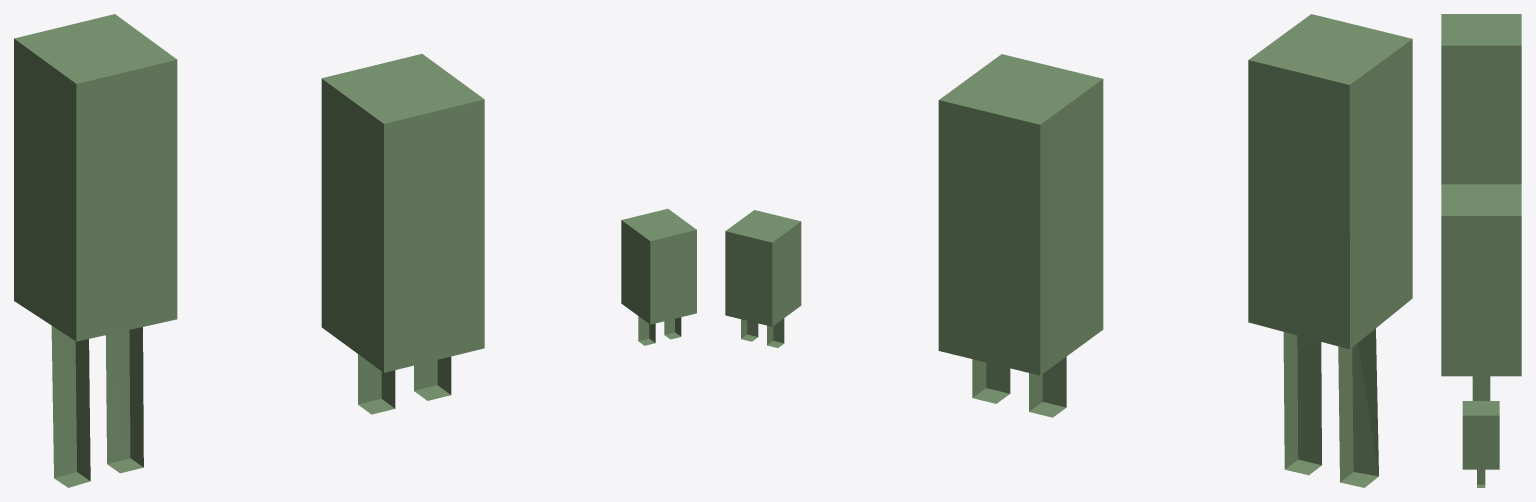
Rendered from biped-animal.glb.
3 views of the same model, side by side, from view 1: azimuth 30°, elevation 25°; view 2: azimuth 150°, elevation 25°; view 3: azimuth 270°, elevation 25° (orthographic). The views are drawn at different scales.
Visible parts, largest first — view 1: xier120.biped-animal.mesh.005, xier120.biped-animal.mesh.004, xier120.biped-animal.mesh.003, xier120.biped-animal.mesh.008, xier120.biped-animal.mesh.000, xier120.biped-animal.mesh.006, xier120.biped-animal.mesh.007; view 2: xier120.biped-animal.mesh.005, xier120.biped-animal.mesh.004, xier120.biped-animal.mesh.003, xier120.biped-animal.mesh.008, xier120.biped-animal.mesh.000, xier120.biped-animal.mesh.006, xier120.biped-animal.mesh.007; view 3: xier120.biped-animal.mesh.004, xier120.biped-animal.mesh.005, xier120.biped-animal.mesh.003, xier120.biped-animal.mesh.007, xier120.biped-animal.mesh.002.
Part boxes in pixels (x1,y1,x2,y2): xier120.biped-animal.mesh.005: [14, 14, 177, 341]; xier120.biped-animal.mesh.004: [321, 54, 484, 372]; xier120.biped-animal.mesh.003: [621, 208, 696, 324]; xier120.biped-animal.mesh.008: [51, 326, 90, 487]; xier120.biped-animal.mesh.000: [105, 327, 143, 473]; xier120.biped-animal.mesh.006: [358, 354, 395, 414]; xier120.biped-animal.mesh.007: [414, 356, 451, 400]; xier120.biped-animal.mesh.005: [1248, 14, 1412, 349]; xier120.biped-animal.mesh.004: [938, 54, 1103, 375]; xier120.biped-animal.mesh.003: [725, 210, 801, 326]; xier120.biped-animal.mesh.008: [1338, 328, 1378, 487]; xier120.biped-animal.mesh.000: [1283, 332, 1321, 475]; xier120.biped-animal.mesh.006: [1029, 357, 1066, 417]; xier120.biped-animal.mesh.007: [972, 359, 1010, 403]; xier120.biped-animal.mesh.004: [1441, 184, 1521, 376]; xier120.biped-animal.mesh.005: [1441, 14, 1521, 184]; xier120.biped-animal.mesh.003: [1462, 401, 1499, 469]; xier120.biped-animal.mesh.007: [1472, 376, 1490, 400]; xier120.biped-animal.mesh.002: [1477, 469, 1485, 487].
Size of the model in its own units: 3.31 by 2.12 by 0.563.
